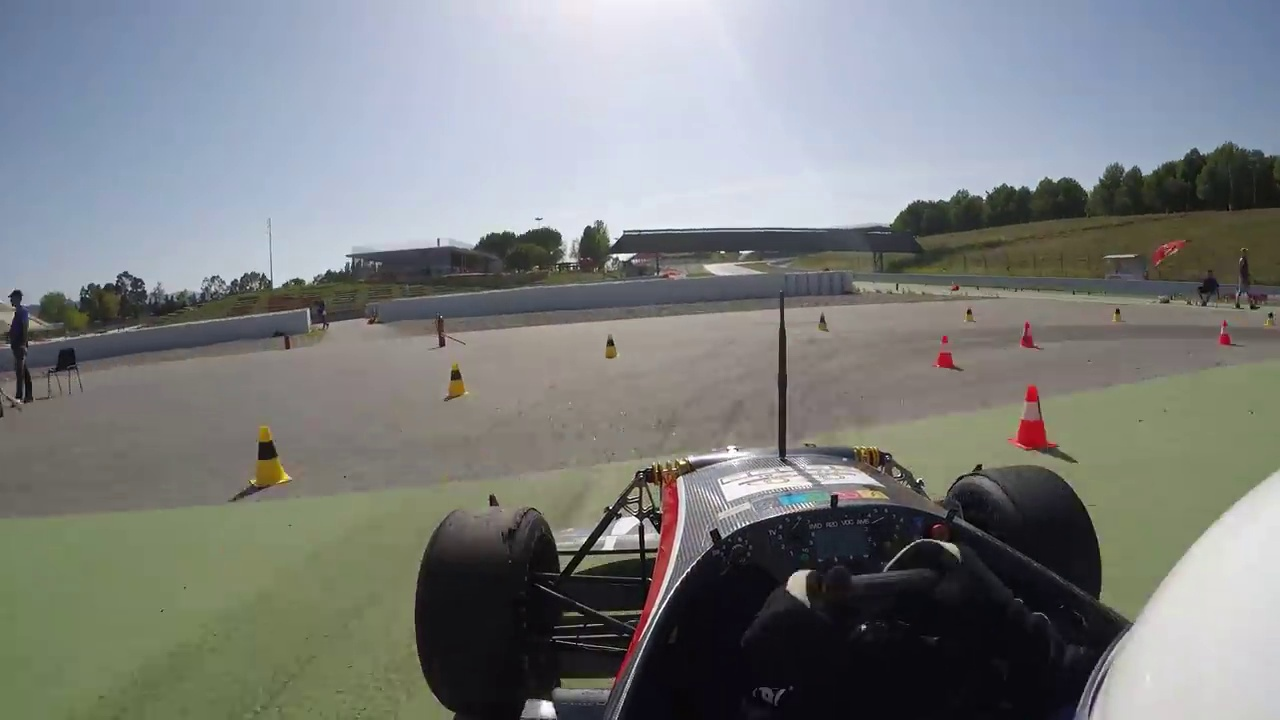Cone: (1012, 380, 1059, 454), (248, 420, 290, 493), (447, 359, 470, 400), (935, 332, 959, 367)
